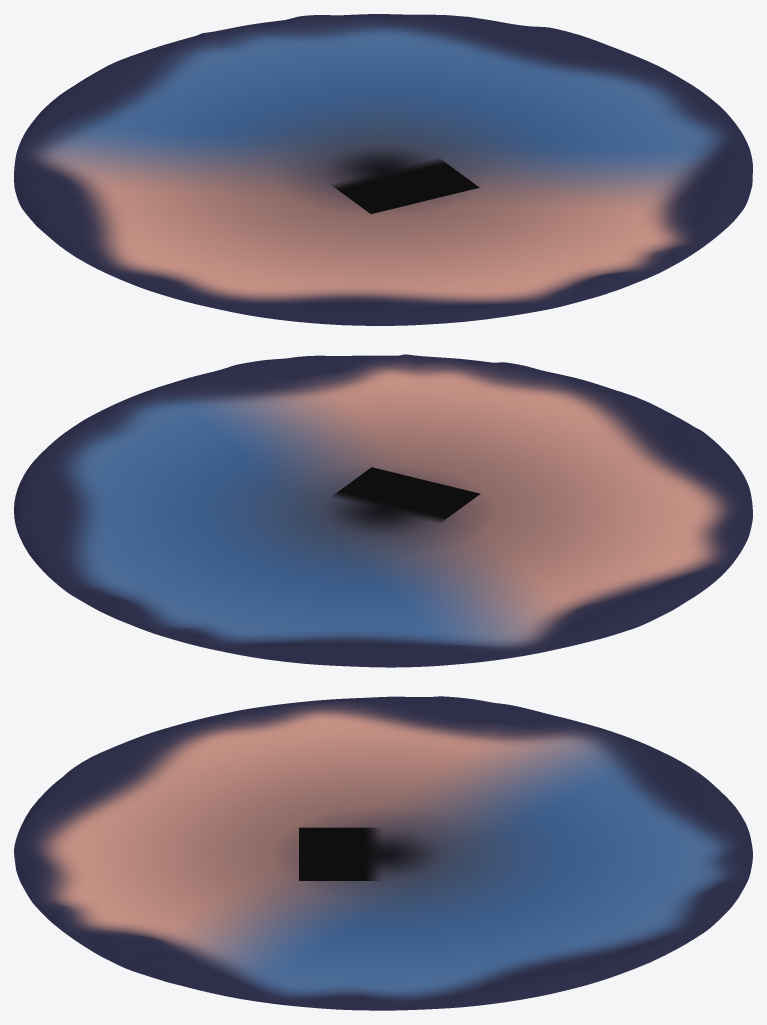
The model's file is Scene_Ground.glb.
The picture shows the model from 3 angles, top to bottom: view 1: azimuth 30°, elevation 25°; view 2: azimuth 150°, elevation 25°; view 3: azimuth 270°, elevation 25°; orthographic projection.
Visible parts, largest first — view 1: Scene_Ground, Scene_GroundToUI; view 2: Scene_Ground, Scene_GroundToUI; view 3: Scene_Ground, Scene_GroundToUI.
Part boxes in pixels (<box>): Scene_Ground: <box>14,14,752,325</box>; Scene_GroundToUI: <box>332,158,479,213</box>; Scene_Ground: <box>14,354,752,667</box>; Scene_GroundToUI: <box>332,467,480,522</box>; Scene_Ground: <box>14,696,752,1010</box>; Scene_GroundToUI: <box>299,827,379,880</box>.
Bounding box in the file's own units: 100 × 1.46 × 99.89.
2 materials, 2 textured.
